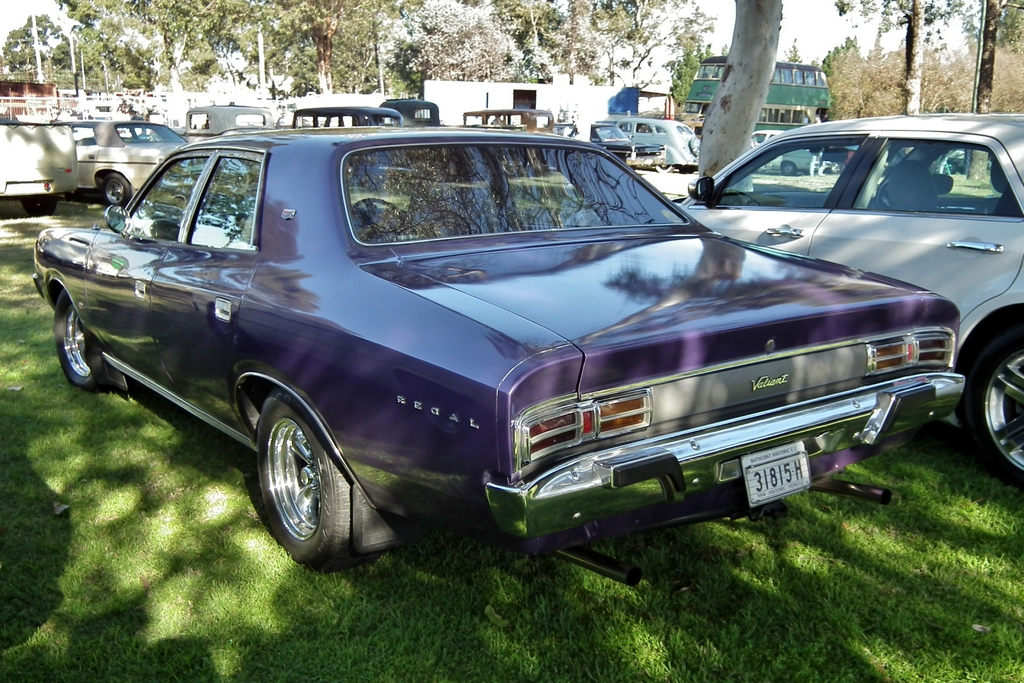Car: (70, 93, 1023, 571)
